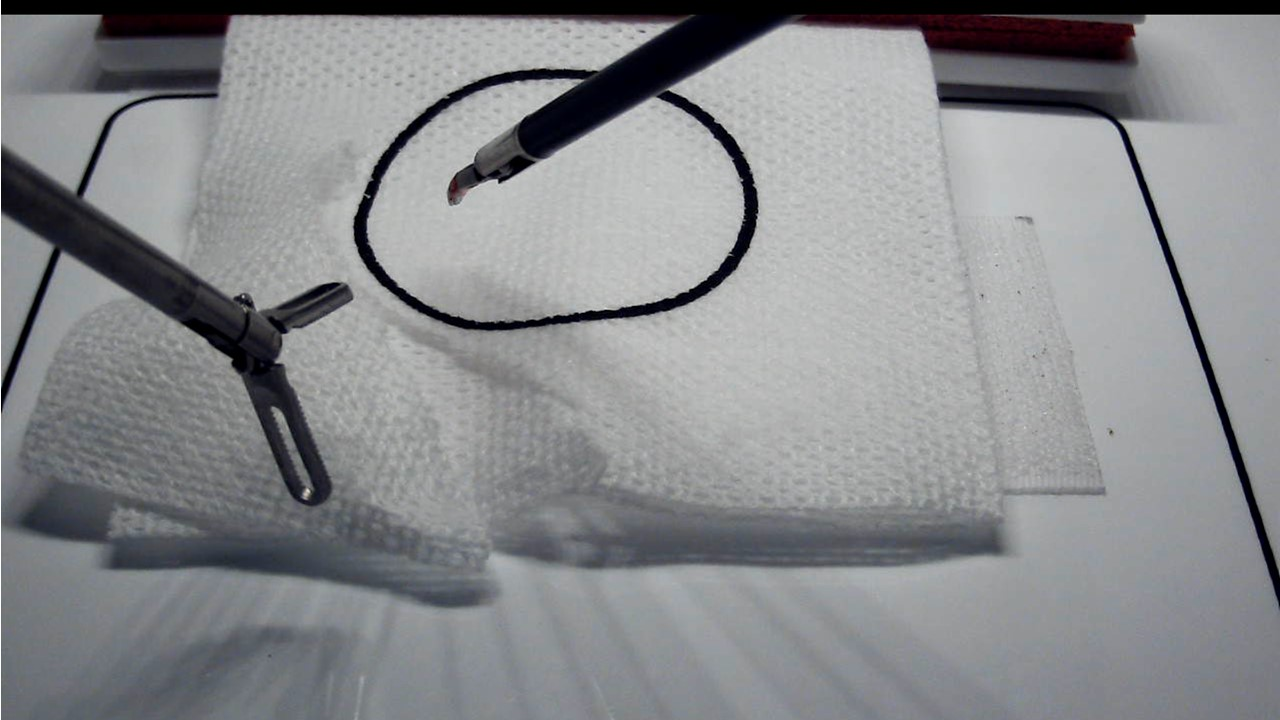Circle: (358, 68, 762, 331)
Grasper: (239, 282, 352, 508)
Scissor: (447, 143, 505, 209)
